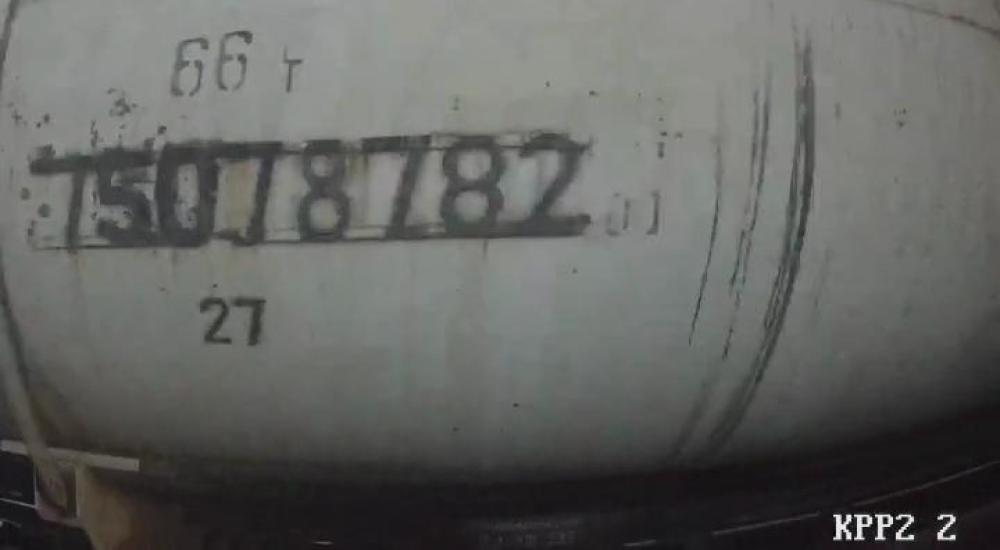Wagon-number: (31, 124, 596, 255)
